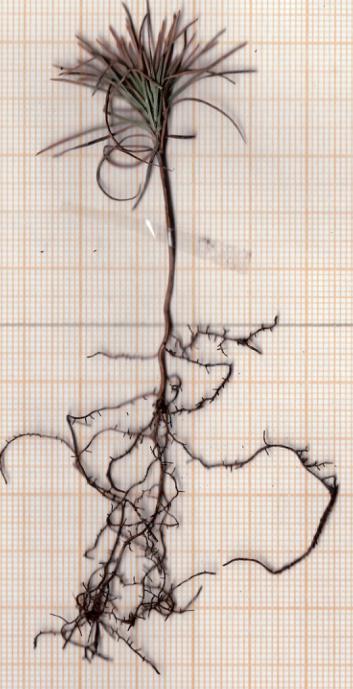flower: (43, 0, 259, 208)
root: (29, 314, 342, 657)
stem: (151, 154, 186, 331)
